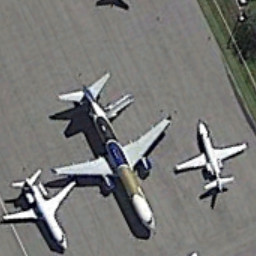Airplane: (46, 69, 183, 231), (171, 117, 251, 206), (3, 166, 77, 252)
